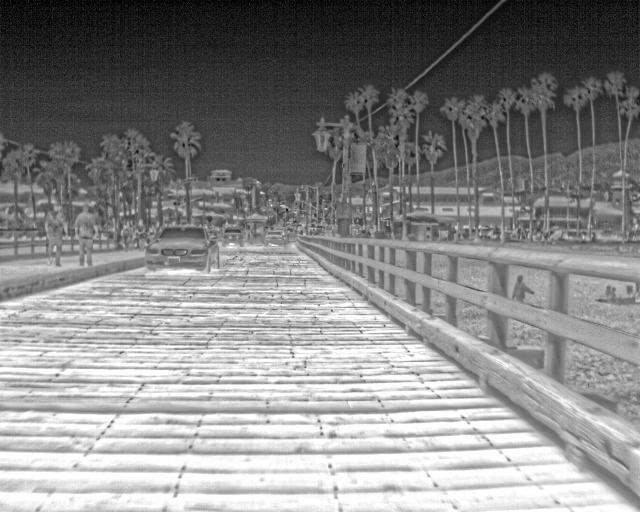bicycle: (142, 223, 223, 270), (262, 226, 292, 245), (221, 227, 243, 245)
empty: (42, 203, 70, 267), (72, 201, 96, 267), (509, 273, 534, 301)
